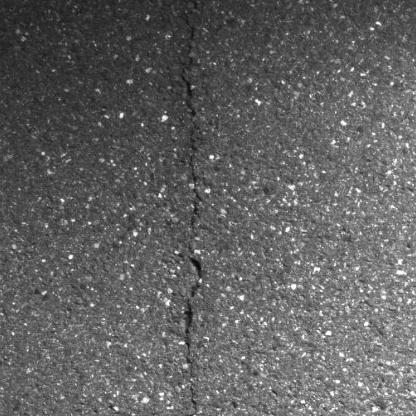Cracks: (180, 16, 219, 215), (184, 201, 205, 377), (183, 386, 199, 416)
